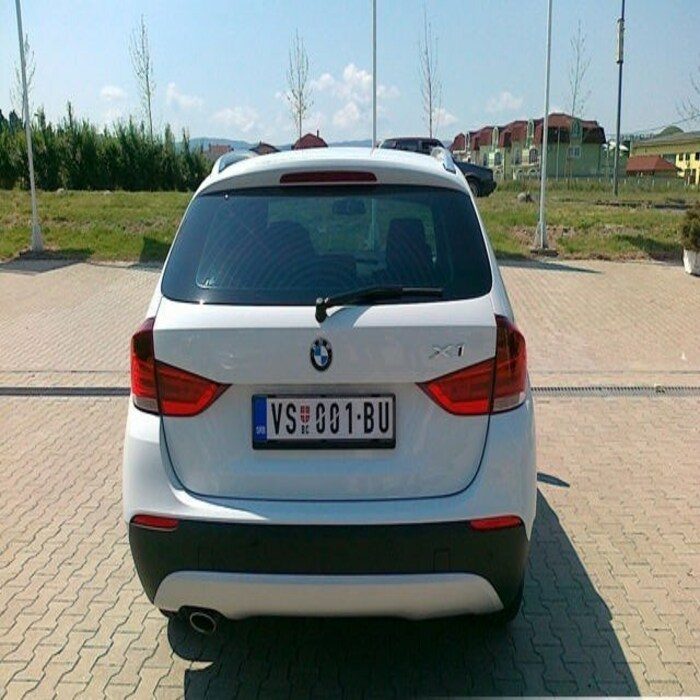n: (246, 387, 407, 459)
